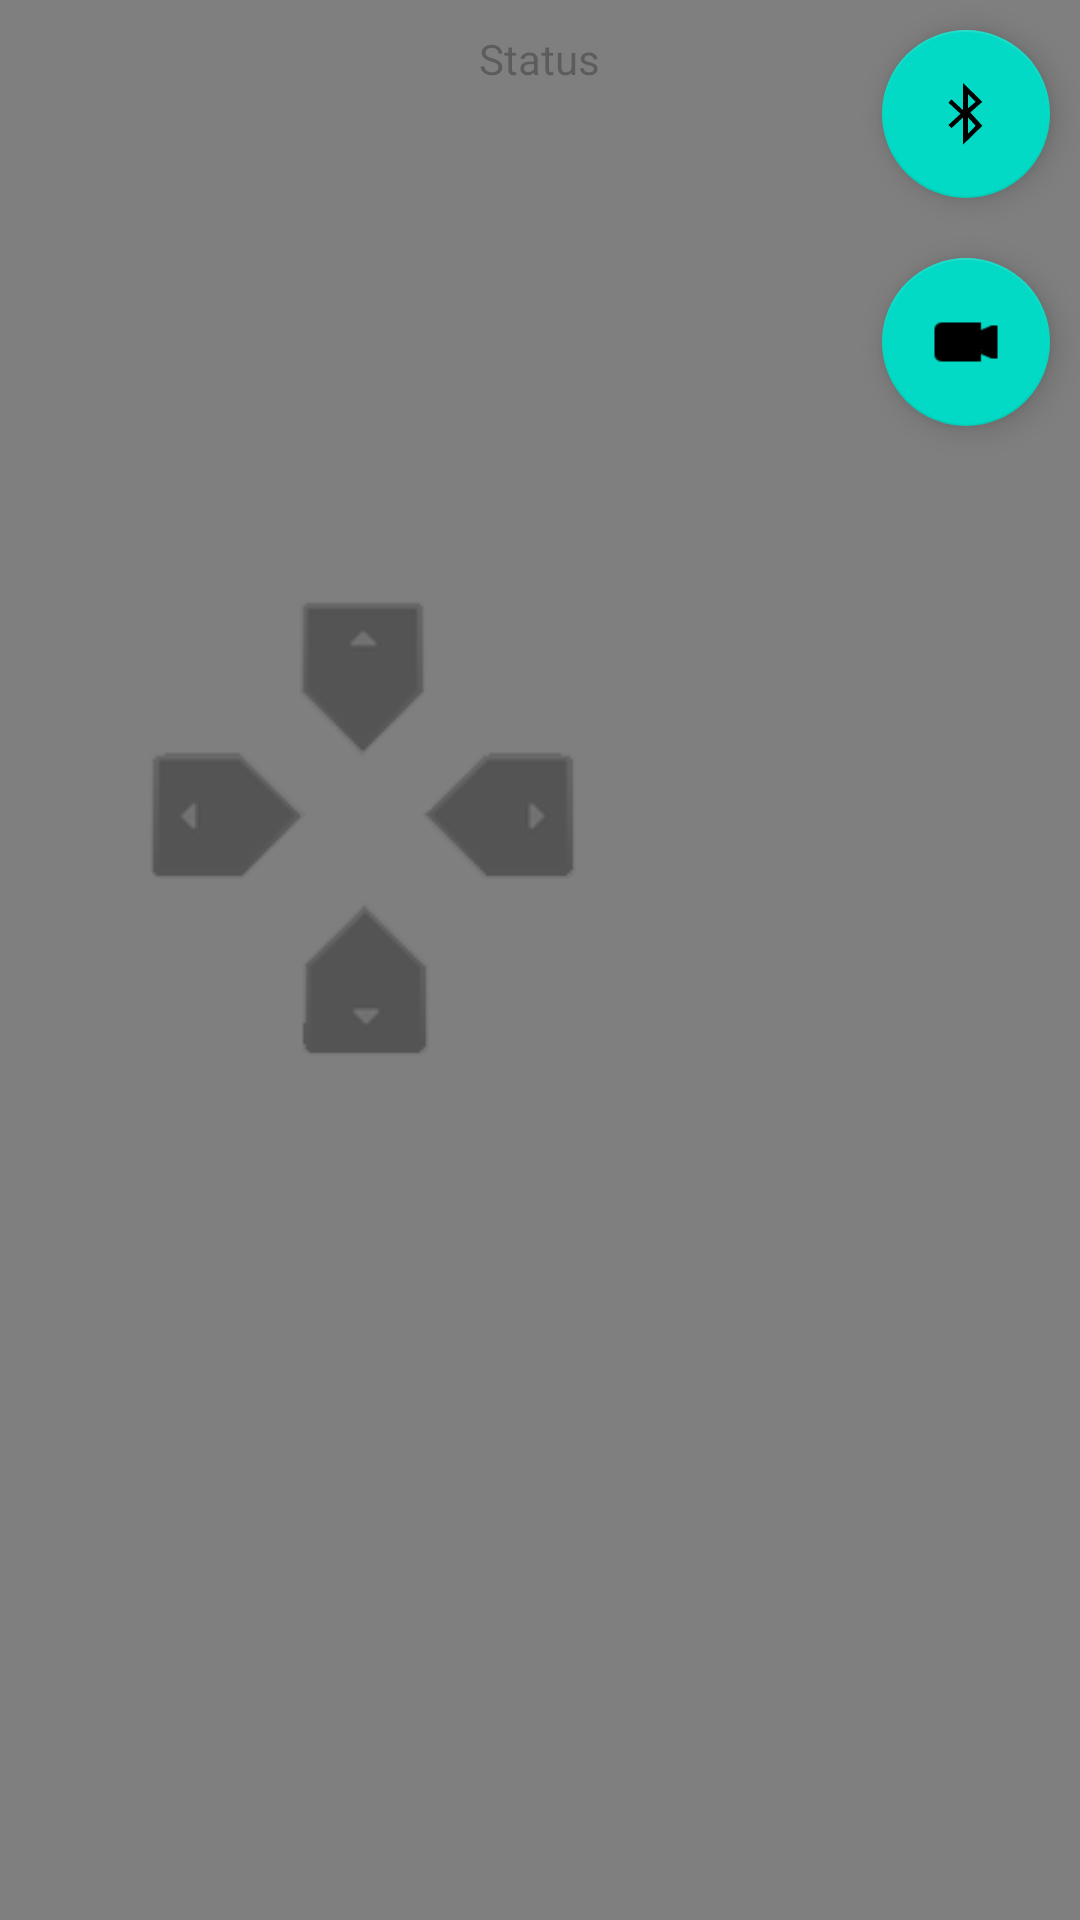

Locate icon controls on the screen. Image size 1080*1920, boxes as (x1, y1, x2, y2).
down: (303, 910, 426, 1053)
left: (153, 758, 299, 876)
presence video busy: (882, 258, 1050, 426)
right: (427, 758, 573, 876)
